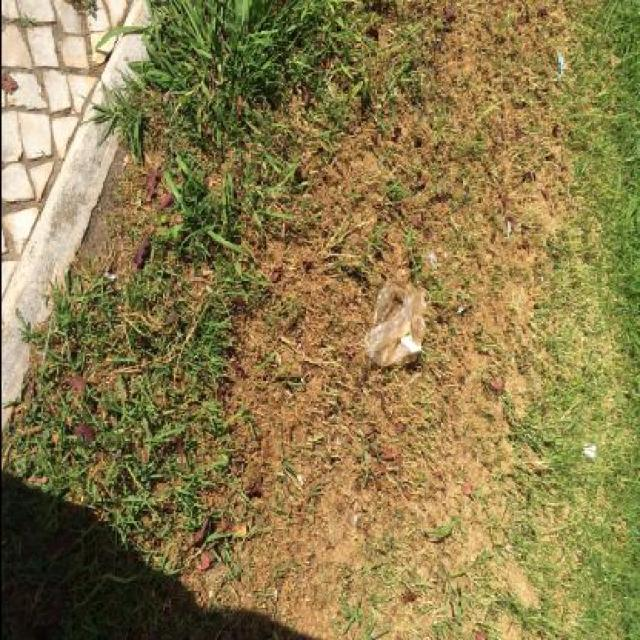plastic: (362, 280, 426, 368)
